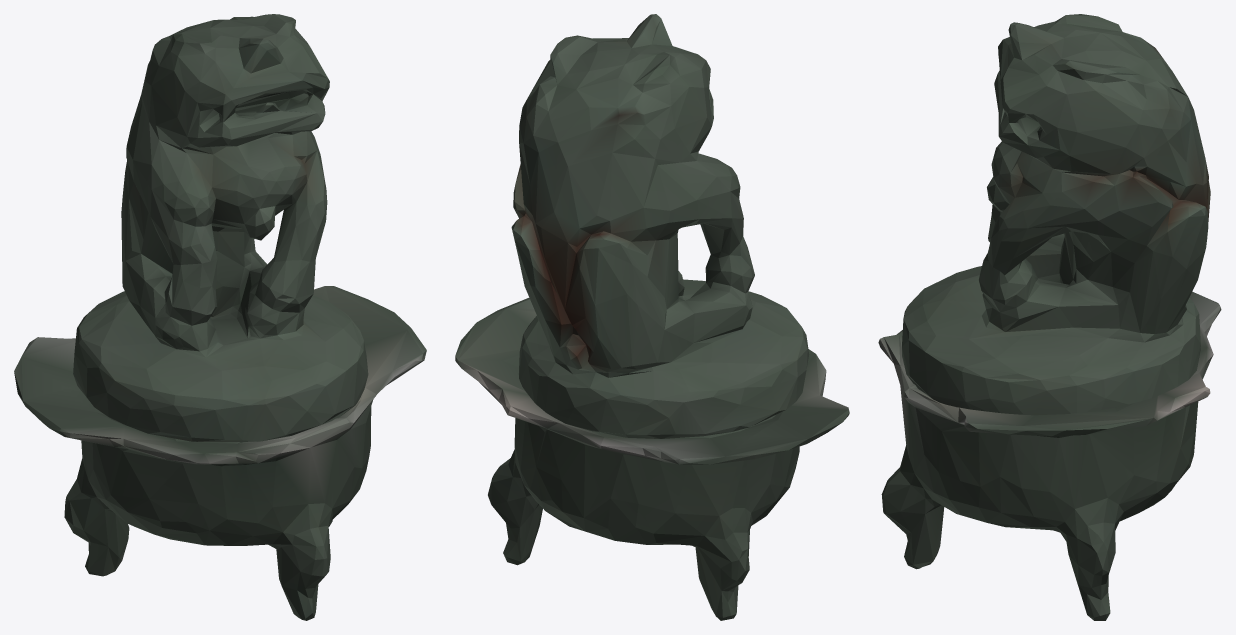
File: lionincenseburner_1c784316.glb
3 renders of one model, left to right at view 1: azimuth 30°, elevation 25°; view 2: azimuth 150°, elevation 25°; view 3: azimuth 270°, elevation 25°, orthographic.
Visible parts, largest first — view 1: top_lion_M_LionIncenseBurner_top_0; view 2: top_lion_M_LionIncenseBurner_top_0; view 3: top_lion_M_LionIncenseBurner_top_0.
Part boxes in pixels (x1,y1,x2,y2): top_lion_M_LionIncenseBurner_top_0: (14,14,426,620); top_lion_M_LionIncenseBurner_top_0: (455,14,849,620); top_lion_M_LionIncenseBurner_top_0: (878,14,1221,620).
Bounding box in the file's own units: 0.2975 × 0.4326 × 0.2453.
